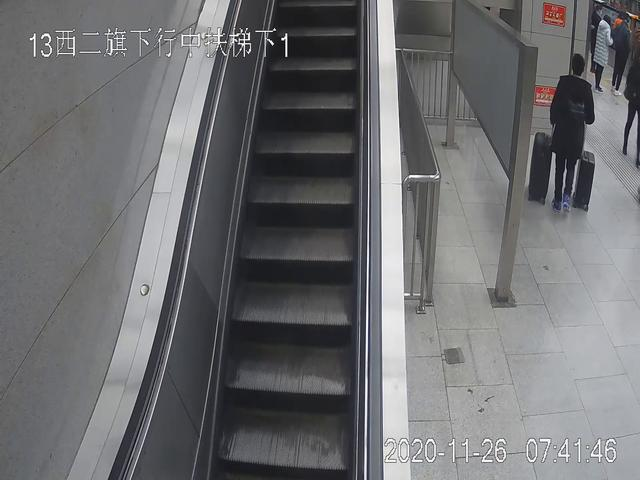person: (550, 53, 594, 214), (612, 15, 633, 91), (592, 15, 612, 91)
